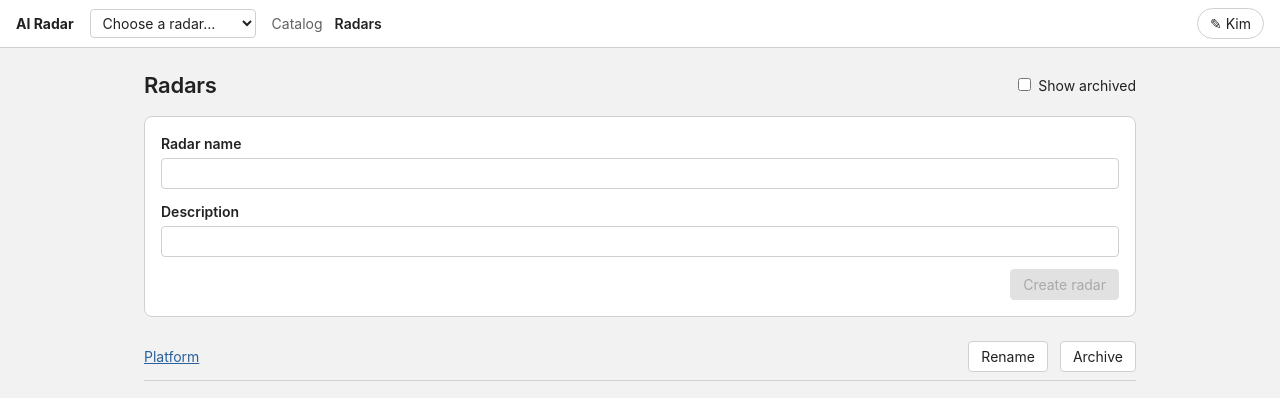
RadarListPage › archives and restores
Click the button with aria-label "Archive Platform".
click(1098, 356)  # box [1060,340,1136,372]
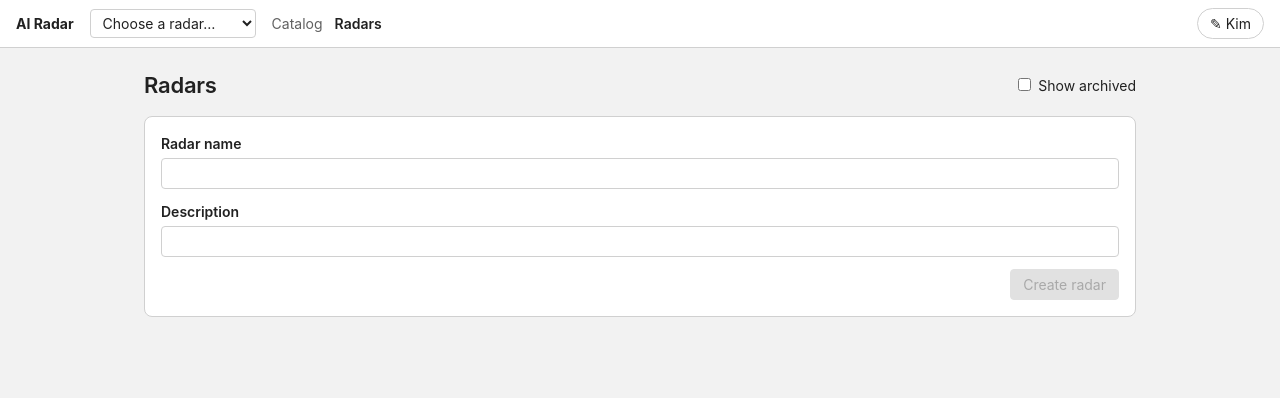
Now the link "Platform" is gone
Click the checkbox labelled "Show archived".
click(1025, 85)  # box [1018,78,1031,91]
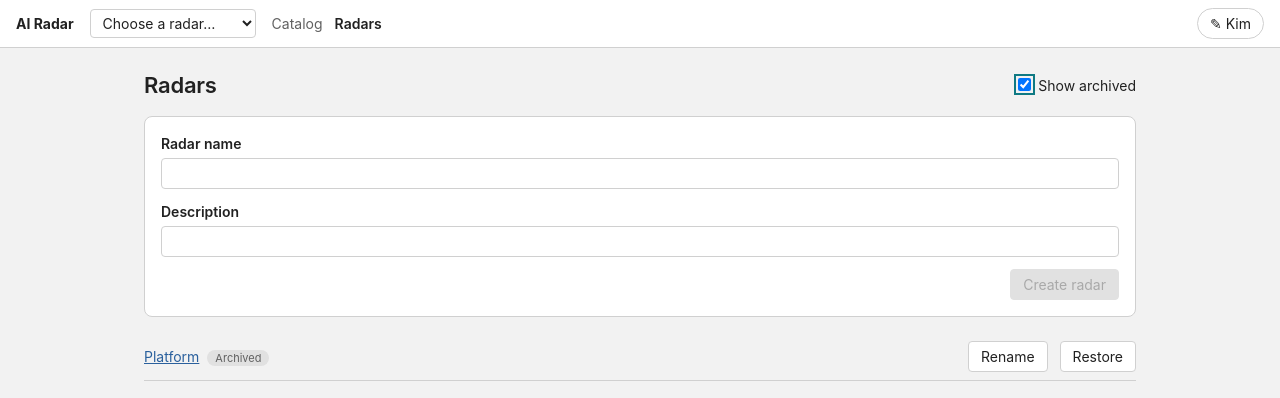
Click the button with aria-label "Restore Platform".
click(1098, 356)  # box [1060,340,1136,372]
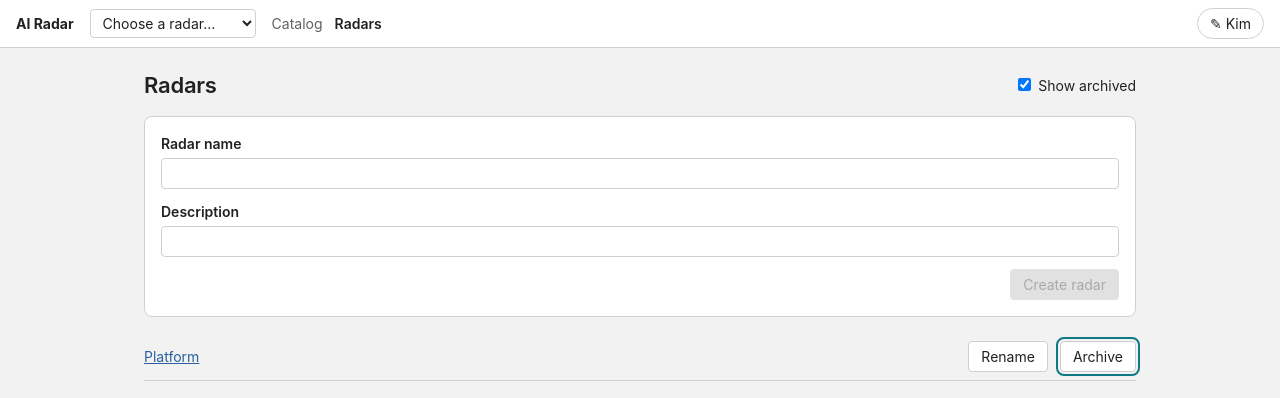
Now the button with aria-label "Archive Platform" is shown, box [1060,340,1136,372]
